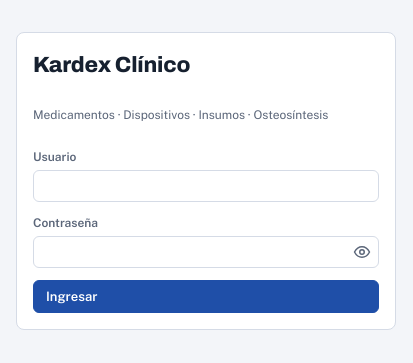
Test case: login › muestra el error del servidor
Type "ana" into the field labelled "Usuario" at (206,186), box [33, 170, 379, 202]
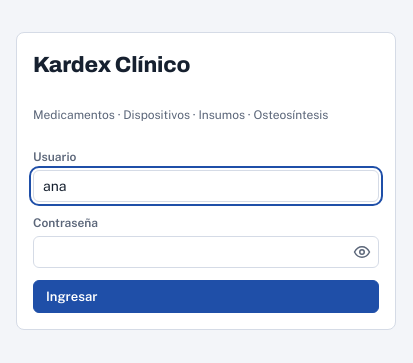
Type "mala" into the password field labelled "Contraseña" at (206,252), box [33, 236, 379, 268]
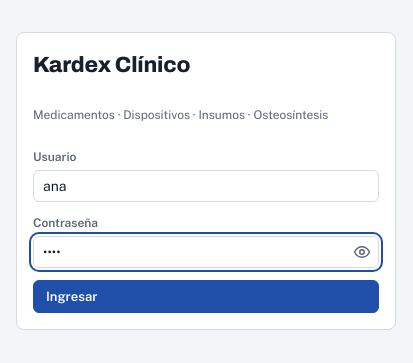
Click the button "Ingresar" at (72,296), box [33, 280, 379, 313]
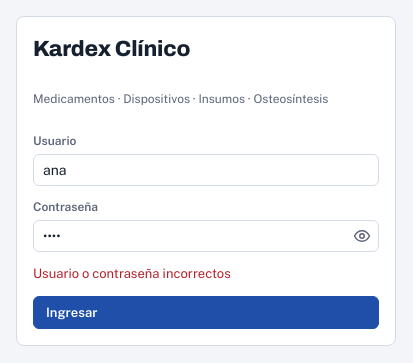
Expected: the message reads "Usuario o contraseña incorrectos", [33, 266, 231, 281]
